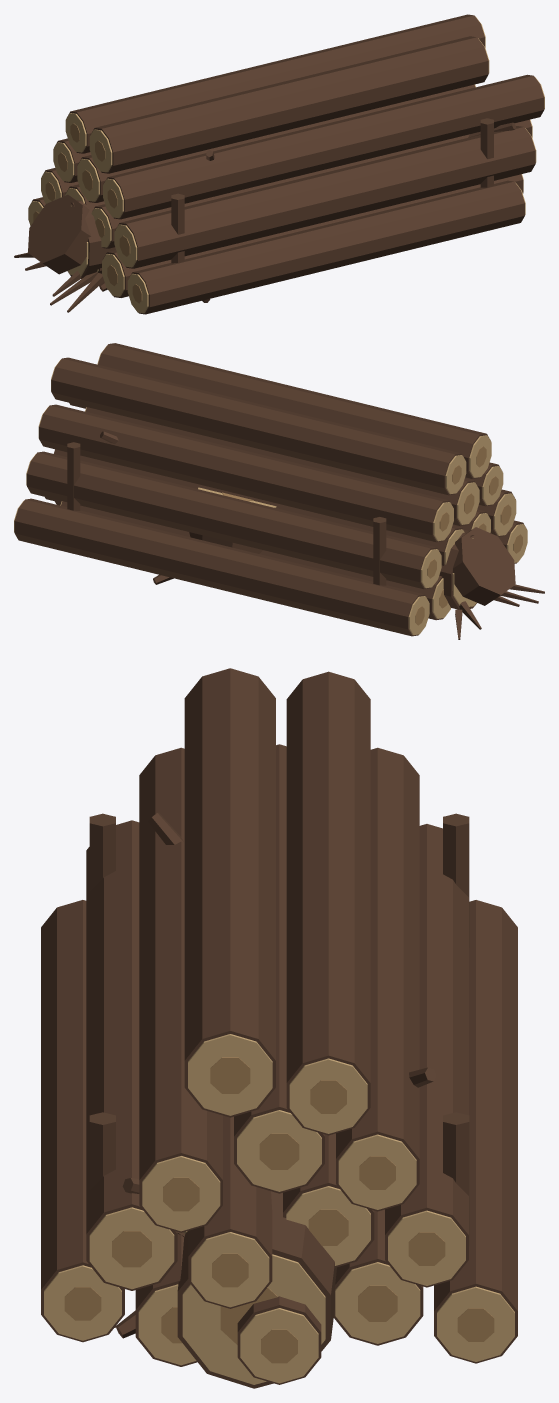
File: log_pile.glb
3 renders of one model, top to bottom at view 1: azimuth 30°, elevation 25°; view 2: azimuth 150°, elevation 25°; view 3: azimuth 270°, elevation 25°, orthographic. The views are drawn at different scales.
Parts seen in each view (by area): view 1: Pile, Fallen; view 2: Pile, Fallen, Stumps; view 3: Pile, Fallen.
Part boxes in pixels (x1=…): Pile: x1=28, y1=14, x2=544, y2=314; Fallen: x1=14, y1=122, x2=515, y2=312; Pile: x1=14, y1=343, x2=527, y2=636; Fallen: x1=53, y1=431, x2=544, y2=639; Stumps: x1=153, y1=487, x2=276, y2=584; Pile: x1=41, y1=668, x2=517, y2=1384; Fallen: x1=122, y1=812, x2=436, y2=1388.
Bounding box in the file's own units: 4.32 × 1.43 × 1.89.
